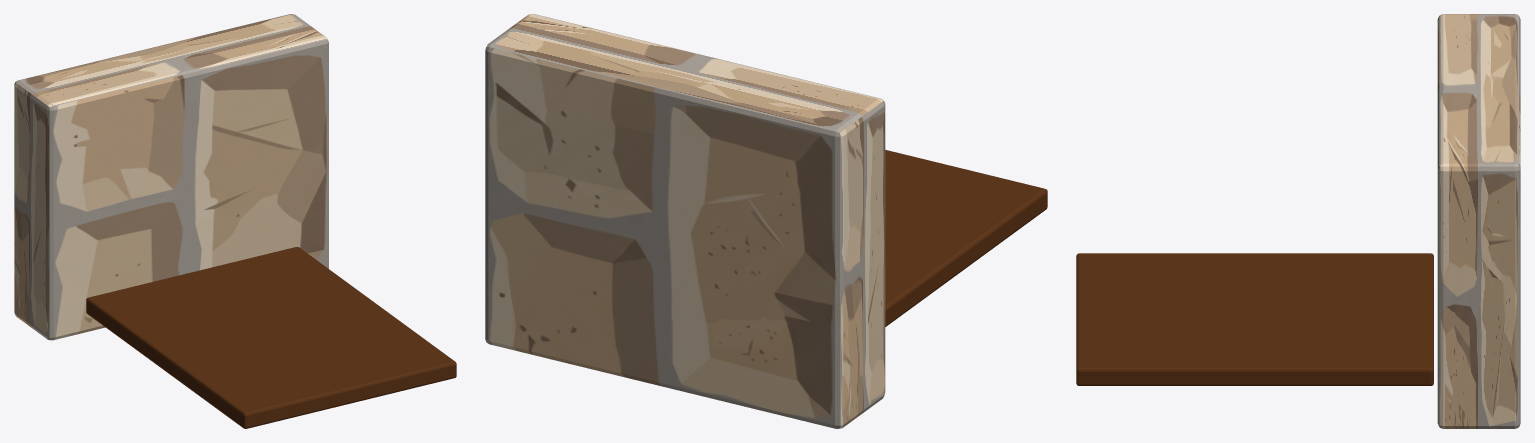
Rendered from drawbridge_LOD1.glb.
3 renders of one model, left to right at view 1: azimuth 30°, elevation 25°; view 2: azimuth 150°, elevation 25°; view 3: azimuth 270°, elevation 25°, orthographic. The views are drawn at different scales.
Visible parts, largest first — view 1: LOD1_Frame, LOD1_Deck; view 2: LOD1_Frame, LOD1_Deck; view 3: LOD1_Deck, LOD1_Frame.
Boxes of the visible parts, x1=… form: LOD1_Frame: x1=14, y1=14, x2=328, y2=340; LOD1_Deck: x1=86, y1=247, x2=456, y2=428; LOD1_Frame: x1=485, y1=14, x2=885, y2=428; LOD1_Deck: x1=885, y1=150, x2=1047, y2=326; LOD1_Deck: x1=1076, y1=253, x2=1433, y2=385; LOD1_Frame: x1=1437, y1=14, x2=1520, y2=428.
Size of the model in its own units: 5.05 by 4.05 by 6.15.
Materials: 2 (1 with a texture image).
